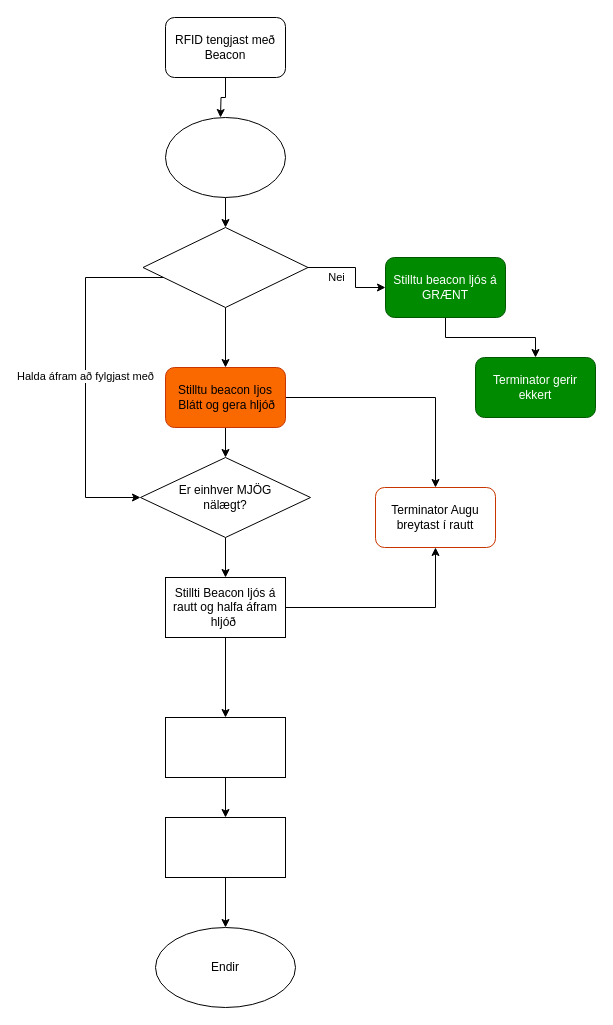
This 613x1025 diagram has some shape labels left out. Here are the shapes that lost their labels. From the top down, the box of each, then its label:
(164, 116, 286, 198): Byrja
(142, 226, 308, 308): er einhver í skynjunasvæði?
(164, 716, 286, 778): Terminator talar og hreyfir hausinn og hendi
(164, 816, 286, 878): Slökkva á með RFID
